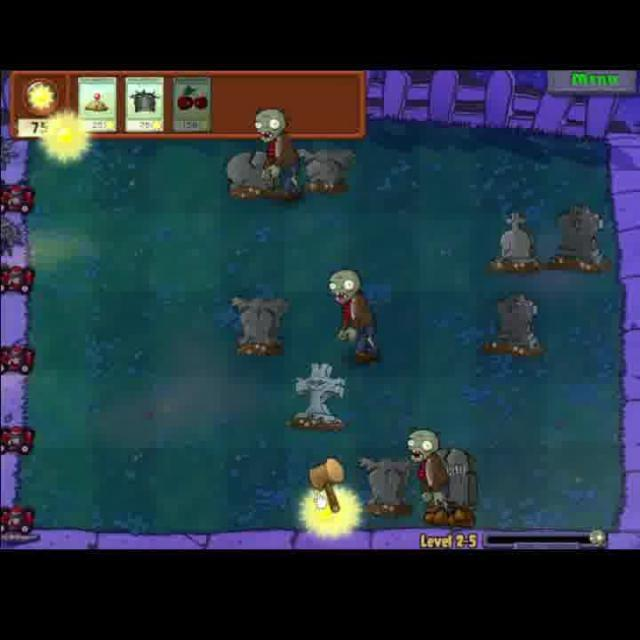sunshine: (301, 478, 361, 542), (37, 109, 98, 168)
zombies: (246, 101, 310, 210), (400, 426, 460, 530), (322, 264, 382, 366)
